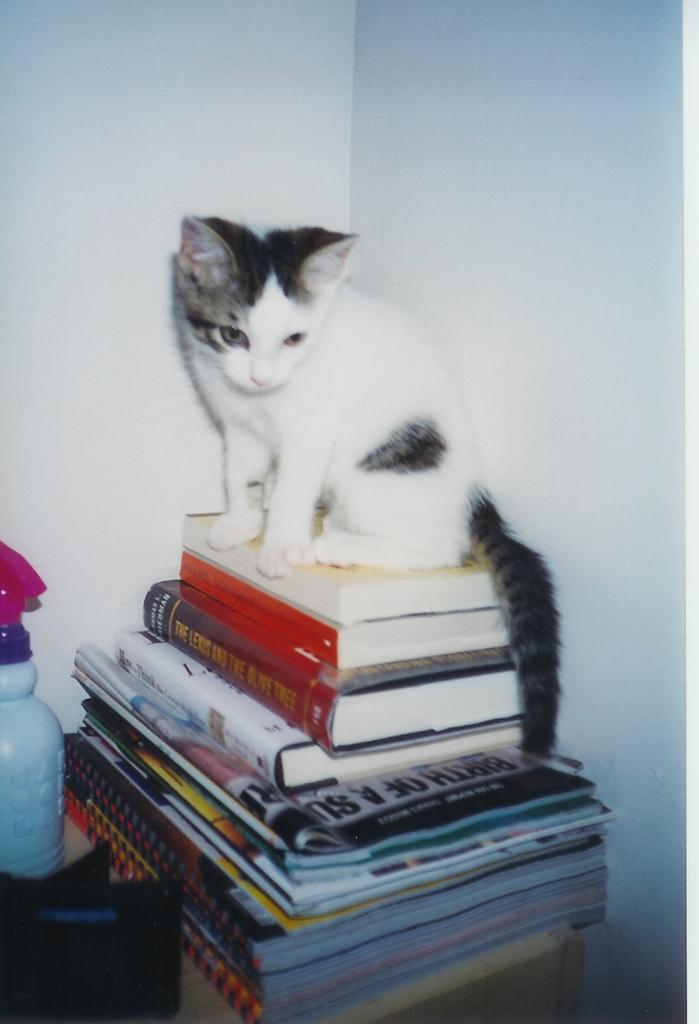Book: (49, 502, 606, 1022)
